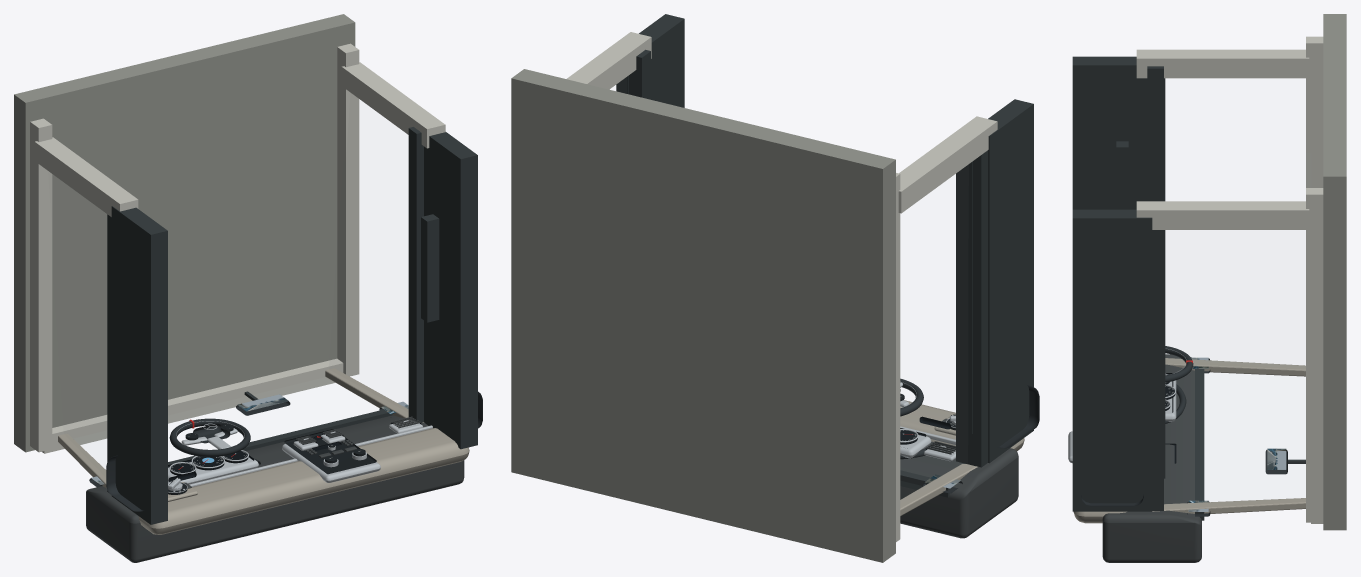
The model's file is cockpit.glb.
3 renders of one model, left to right at view 1: azimuth 30°, elevation 25°; view 2: azimuth 150°, elevation 25°; view 3: azimuth 270°, elevation 25°, orthographic. The views are drawn at different scales.
Parts seen in each view (by area): view 1: FK_CABIN_ROOF, FK_DOOR_PANEL_left, FK_DOOR_PANEL_right, FK_DASH_VOLUME, FK_DASH_LOWER, FK_WINDOW_RAIL_left, FK_WINDOW_RAIL_right, FK_CABIN_HEADER, FK_DOOR_SILL_right, FK_B_PILLAR_left, FK_B_PILLAR_right, FK_DOOR_ARMREST_right (+9 smaller); view 2: FK_CABIN_ROOF, FK_DOOR_PANEL_left, FK_DOOR_SILL_left, FK_DASH_VOLUME, FK_B_PILLAR_left, FK_DOOR_PANEL_right, FK_B_PILLAR_right, FK_WINDOW_RAIL_left, FK_WINDOW_SEAL_left, FK_A_PILLAR_-1, FK_DASH_LOWER, FK_DOOR_SILL_right (+1 smaller); view 3: FK_DOOR_PANEL_right, FK_CABIN_ROOF, FK_DOOR_PANEL_left, FK_DASH_VOLUME, FK_WINDOW_RAIL_right, FK_B_PILLAR_left, FK_B_PILLAR_right, FK_DOOR_SILL_right, FK_WINDOW_RAIL_left, FK_DOOR_SILL_left, FK_A_PILLAR_1, FK_A_PILLAR_-1 (+6 smaller).
Boxes of the visible parts, x1=… form: FK_CABIN_ROOF: x1=14, y1=14, x2=355, y2=452; FK_DOOR_PANEL_left: x1=111, y1=206, x2=167, y2=524; FK_DOOR_PANEL_right: x1=424, y1=132, x2=477, y2=449; FK_DASH_VOLUME: x1=86, y1=415, x2=464, y2=562; FK_DASH_LOWER: x1=138, y1=428, x2=469, y2=534; FK_WINDOW_RAIL_left: x1=30, y1=118, x2=52, y2=452; FK_WINDOW_RAIL_right: x1=337, y1=43, x2=359, y2=376; FK_CABIN_HEADER: x1=42, y1=358, x2=343, y2=453; FK_DOOR_SILL_right: x1=408, y1=127, x2=423, y2=422; FK_B_PILLAR_left: x1=34, y1=137, x2=138, y2=216; FK_B_PILLAR_right: x1=341, y1=62, x2=445, y2=148; FK_DOOR_ARMREST_right: x1=421, y1=214, x2=439, y2=322; FK_CABIN_ROOF: x1=511, y1=69, x2=895, y2=562; FK_DOOR_PANEL_left: x1=988, y1=99, x2=1033, y2=463; FK_DOOR_SILL_left: x1=956, y1=150, x2=987, y2=467; FK_DASH_VOLUME: x1=900, y1=441, x2=1018, y2=538; FK_B_PILLAR_left: x1=898, y1=116, x2=997, y2=213; FK_DOOR_PANEL_right: x1=639, y1=14, x2=684, y2=107; FK_B_PILLAR_right: x1=566, y1=32, x2=651, y2=89; FK_WINDOW_RAIL_left: x1=896, y1=173, x2=900, y2=541; FK_WINDOW_SEAL_left: x1=968, y1=161, x2=972, y2=433; FK_A_PILLAR_-1: x1=900, y1=464, x2=977, y2=515; FK_DASH_LOWER: x1=900, y1=400, x2=1024, y2=450; FK_DOOR_SILL_right: x1=616, y1=49, x2=650, y2=99; FK_DOOR_PANEL_right: x1=1072, y1=209, x2=1152, y2=511; FK_CABIN_ROOF: x1=1323, y1=14, x2=1346, y2=530; FK_DOOR_PANEL_left: x1=1072, y1=56, x2=1147, y2=209; FK_DASH_VOLUME: x1=1102, y1=354, x2=1201, y2=562; FK_WINDOW_RAIL_right: x1=1306, y1=188, x2=1323, y2=522; FK_B_PILLAR_left: x1=1136, y1=49, x2=1309, y2=78; FK_B_PILLAR_right: x1=1136, y1=201, x2=1309, y2=229; FK_DOOR_SILL_right: x1=1152, y1=230, x2=1163, y2=510; FK_WINDOW_RAIL_left: x1=1306, y1=36, x2=1323, y2=187; FK_DOOR_SILL_left: x1=1147, y1=66, x2=1163, y2=201; FK_A_PILLAR_1: x1=1152, y1=498, x2=1305, y2=513; FK_A_PILLAR_-1: x1=1165, y1=358, x2=1305, y2=376.
Size of the model in its own units: 2.48 by 2.57 by 1.68.
Materials: 16 (3 with a texture image).
